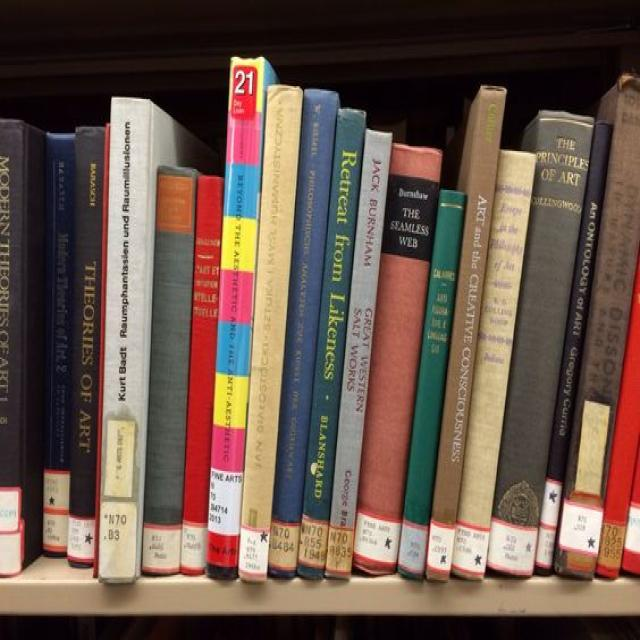book: (487, 109, 594, 576), (555, 77, 640, 582), (352, 144, 441, 576), (428, 86, 505, 580), (452, 151, 535, 582), (536, 120, 613, 575), (267, 88, 338, 580), (297, 107, 365, 580), (207, 57, 265, 581), (240, 86, 301, 582), (325, 130, 391, 581), (397, 189, 466, 580), (97, 96, 150, 582), (141, 165, 195, 574), (68, 124, 106, 566), (181, 177, 222, 576), (41, 134, 75, 558), (0, 117, 25, 573)
